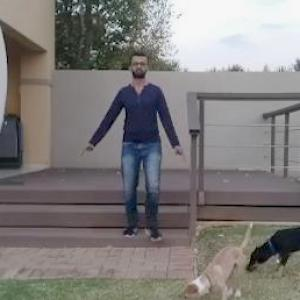land: (93, 60, 184, 230)
